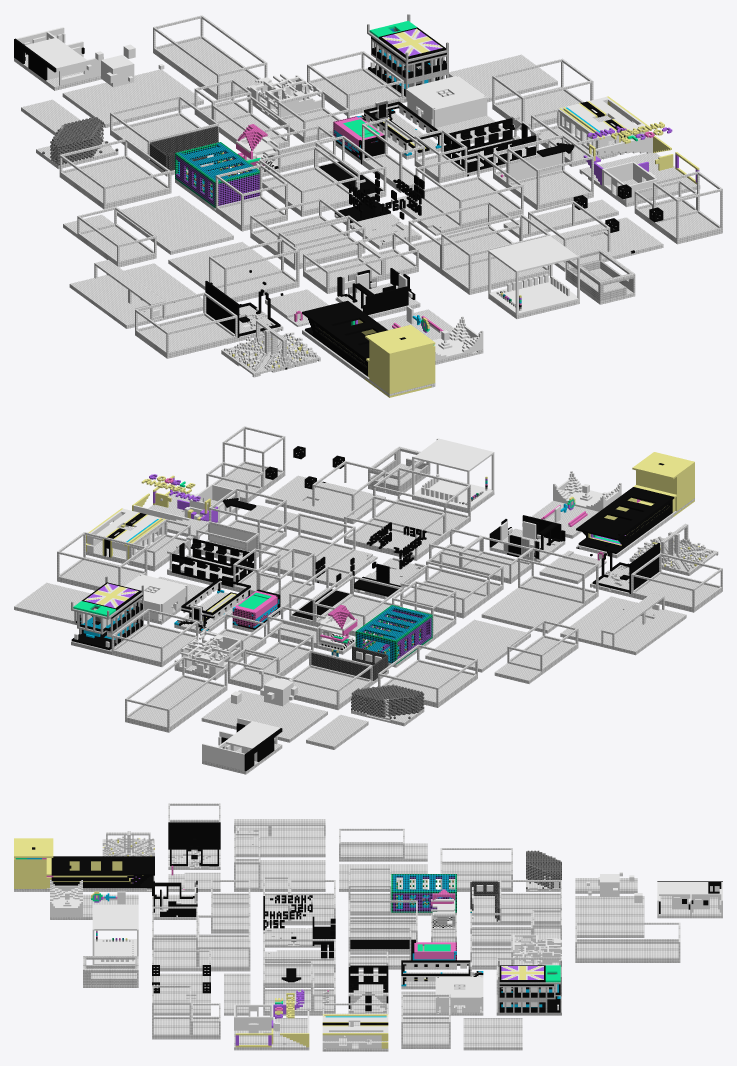
File: Hiro-v2.glb
3 renders of one model, top to bottom at view 1: azimuth 30°, elevation 25°; view 2: azimuth 150°, elevation 25°; view 3: azimuth 270°, elevation 25°, orthographic. The views are drawn at different scales.
Parts seen in each view (by area): view 1: solid-voxels_20.006; view 2: solid-voxels_20.006; view 3: solid-voxels_20.006.
Boxes of the visible parts, left/top/right/bottom form: solid-voxels_20.006: left=14, top=14, right=722, bottom=397; solid-voxels_20.006: left=14, top=426, right=722, bottom=774; solid-voxels_20.006: left=14, top=803, right=722, bottom=1051.
Size of the model in its own units: 164 by 13 by 216.
Materials: 1 (1 with a texture image).
